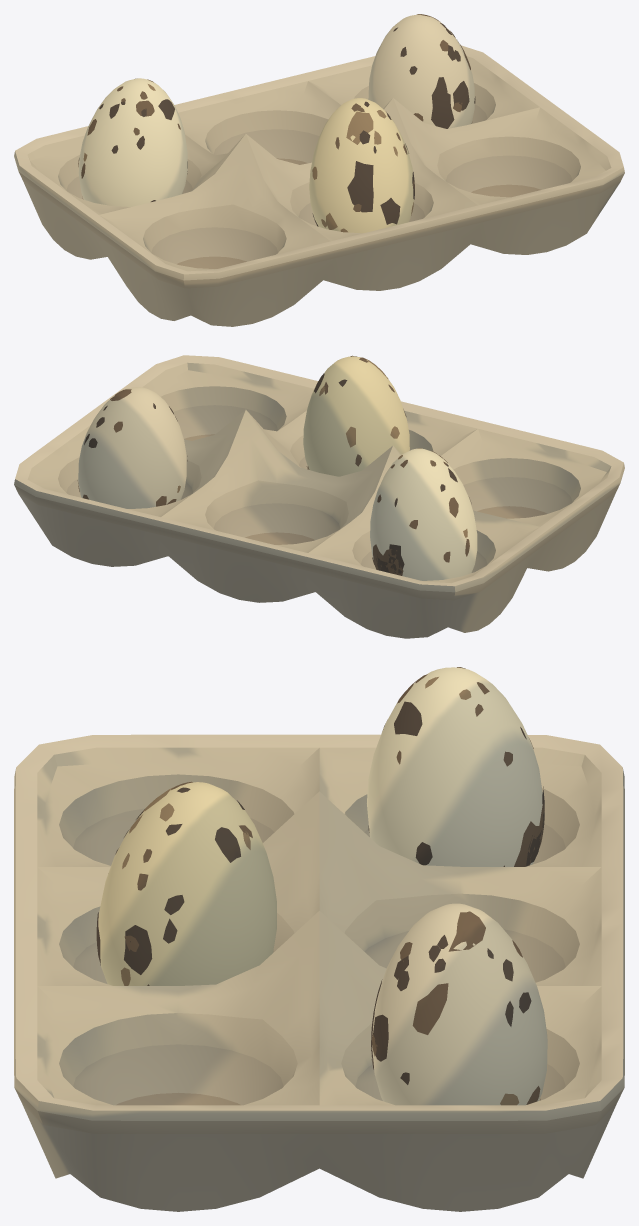
File: 鹌鹑蛋.glb
3 views of the same model, one above another, from view 1: azimuth 30°, elevation 25°; view 2: azimuth 150°, elevation 25°; view 3: azimuth 270°, elevation 25° (orthographic). The views are drawn at different scales.
Visible parts, largest first — view 1: Asset_nest; view 2: Asset_nest; view 3: Asset_nest.
Part boxes in pixels (bbox=[...]): Asset_nest: bbox=[14, 14, 624, 326]; Asset_nest: bbox=[14, 355, 624, 638]; Asset_nest: bbox=[14, 667, 624, 1211].
Bounding box in the file's own units: 6.23 × 2.06 × 4.26.
1 material, 1 textured.
